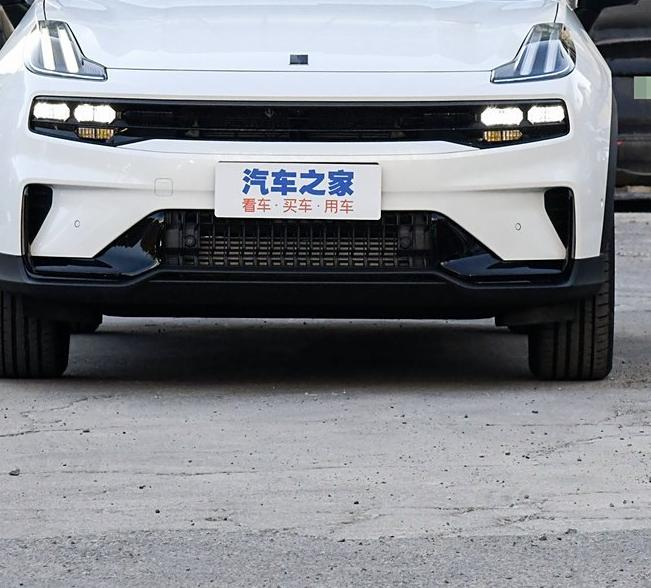LINK&CO: (290, 55, 308, 64)
